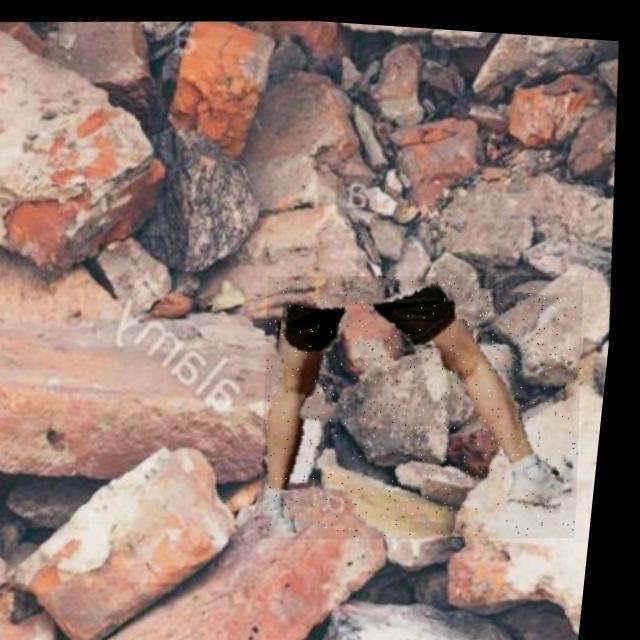Person in Rubble: (252, 250, 607, 551)
